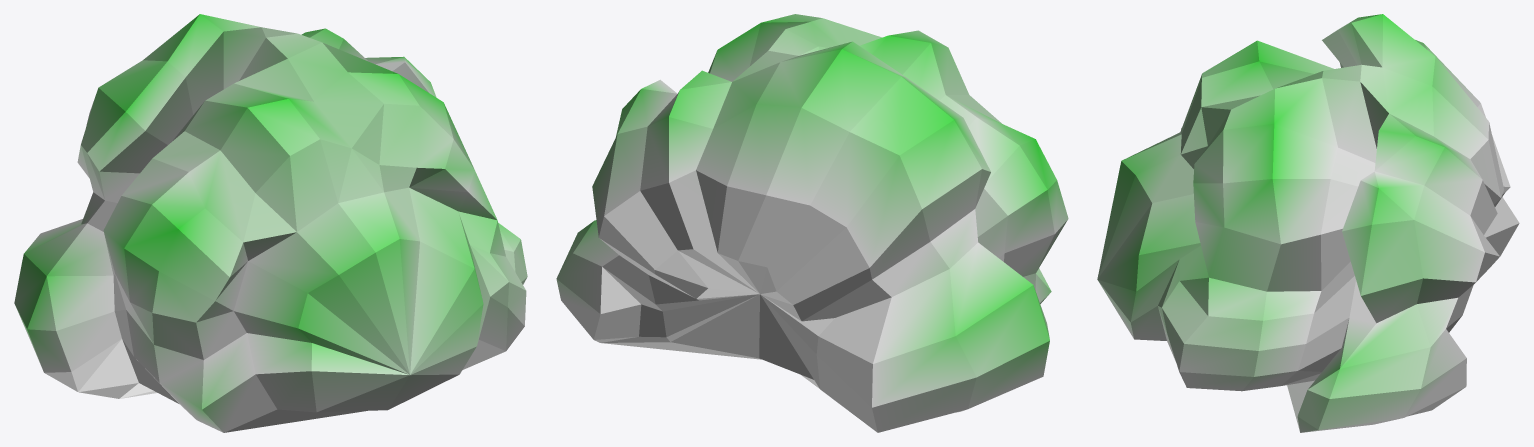
The model's file is bigFallenTreeCrown.fbx.
3 views of the same model, side by side, from view 1: azimuth 30°, elevation 25°; view 2: azimuth 150°, elevation 25°; view 3: azimuth 270°, elevation 25° (orthographic). The views are drawn at different scales.
Parts seen in each view (by area): view 1: bigFallenTreeCrown; view 2: bigFallenTreeCrown; view 3: bigFallenTreeCrown.
Part boxes in pixels (x1,y1,x2,y2): bigFallenTreeCrown: [14, 14, 527, 432]; bigFallenTreeCrown: [556, 14, 1068, 432]; bigFallenTreeCrown: [1097, 14, 1519, 432].
Size of the model in its own units: 1046 by 675 by 860.
